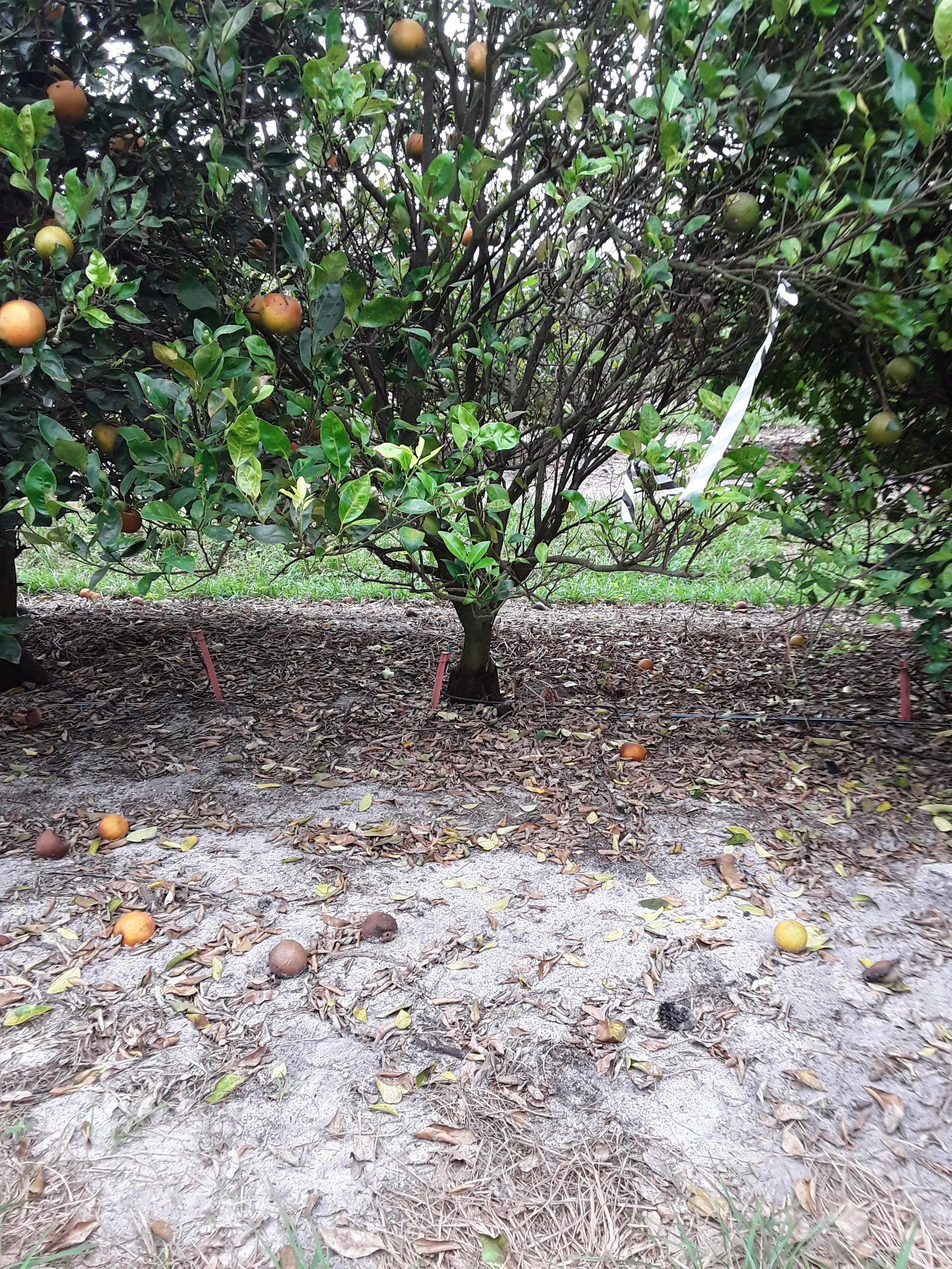fruit_on_ground: (40, 75, 93, 127), (0, 296, 49, 349), (103, 128, 157, 175), (257, 288, 307, 337), (384, 13, 430, 63), (32, 224, 80, 269), (718, 187, 763, 234), (461, 36, 503, 82), (232, 290, 275, 332), (88, 415, 128, 457), (864, 408, 906, 447), (108, 501, 148, 537), (298, 411, 338, 443), (319, 143, 356, 176), (883, 353, 920, 386), (248, 383, 283, 415), (31, 0, 75, 25), (400, 128, 430, 161), (240, 232, 274, 260), (454, 218, 479, 248)
fruit_on_tree: (265, 939, 309, 979), (111, 909, 156, 947), (772, 915, 810, 955), (359, 910, 398, 944), (33, 828, 71, 861), (862, 957, 901, 988), (96, 812, 130, 843), (619, 739, 648, 765), (17, 706, 43, 731), (788, 629, 808, 648), (636, 655, 654, 671), (76, 586, 94, 600), (128, 595, 146, 608), (89, 590, 104, 603), (733, 600, 750, 611), (320, 597, 332, 607)
